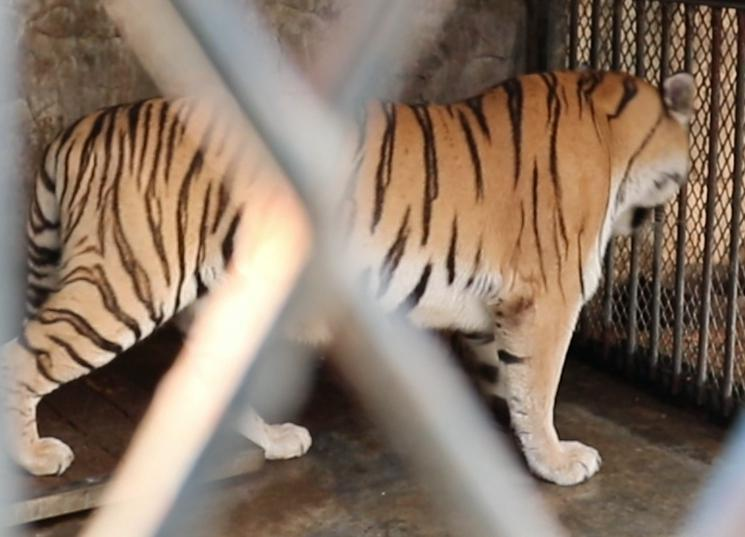tiger: (345, 71, 695, 484)
